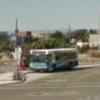buses: (30, 49, 82, 74)
